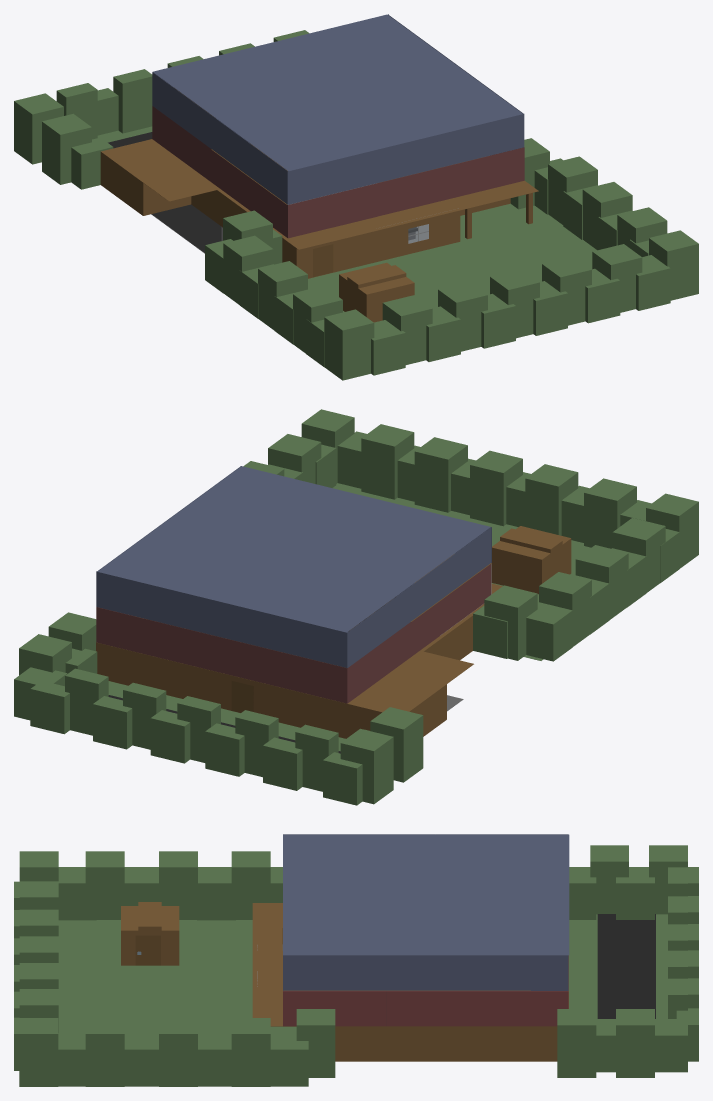
The model's file is House_Map.glb.
The picture shows the model from 3 angles, top to bottom: view 1: azimuth 30°, elevation 25°; view 2: azimuth 150°, elevation 25°; view 3: azimuth 270°, elevation 25°; orthographic projection. The views are drawn at different scales.
Visible parts, largest first — view 1: Cube_copy_copy_copy_copy_copy_copy_copy_copy_copy_copy_copy_ (×33), Cube_copy_copy_copy_copy_3, Cube_copy_copy_copy_copy_copy_copy_copy_copy_copy_copy_13, Cube_copy_copy_copy_copy_copy_5, Cube_copy_copy_copy_copy_copy_copy_copy_copy_copy_copy_2, Cube_copy_copy_copy_copy_copy_copy_copy_copy_5, Cube_copy_copy_copy_copy_copy_copy_copy_6, Cube_copy_copy_copy_copy_copy_copy_copy_copy_copy_2, Cube_copy_copy_copy_copy_copy_copy_7, Cube_copy_copy_copy_copy_copy_7, Cube_copy_copy_copy_copy_copy_copy_4, Cube_copy_copy_copy_copy_copy_copy_copy_copy_2 (+11 smaller); view 2: Cube_copy_copy_copy_copy_copy_copy_copy_copy_copy_copy_copy_ (×41), Cube_copy_copy_copy_copy_copy_copy_copy_copy_copy_copy_14, Cube_copy_copy_copy_copy_copy_copy_copy_copy_copy_copy_13, Cube_copy_copy_copy_7, Cube_copy_copy_copy_copy_copy_copy_copy_copy_8, Cube_copy_copy_copy_copy_copy_copy_copy_copy_copy_2, Cube_copy_copy_copy_copy_copy_copy_copy_copy_copy_copy_2, Cube_copy_copy_copy_copy_copy_copy_copy_2, Cube_copy_copy_copy_copy_copy_1, Cube_copy_copy_copy_copy_copy_copy_copy_copy_2, Cube_copy_copy_copy_copy_copy_7, Cube_copy_copy_copy_copy_3 (+6 smaller); view 3: Cube_copy_copy_copy_copy_copy_copy_copy_copy_copy_copy_copy_ (×33), Cube_copy_copy_copy_copy_3, Cube_copy_copy_copy_copy_copy_1, Cube_copy_copy_copy_copy_8, Cube_copy_copy_copy_copy_copy_copy_copy, Cube_copy_copy_copy_copy_copy_copy_copy_copy_8 copy copy, Cube_copy_copy_copy_copy_copy_copy_copy_copy_8 copy, Cube_copy_copy_copy_copy_copy_copy_copy_6, Cube_copy_copy_copy_copy_copy_copy_copy_copy_copy_2, Cube_copy_copy_copy_copy_copy_copy_copy_copy_copy_copy_2, Cube_copy_copy_copy_copy_copy_copy_copy_copy_5, Cube_copy_copy_copy_copy_copy_copy_4 (+10 smaller).
Part boxes in pixels (box(x1,y1,x2,y2)): Cube_copy_copy_copy_copy_copy_copy_copy_copy_copy_copy_copy_ (×33): box(14, 14, 670, 380); Cube_copy_copy_copy_copy_3: box(315, 203, 596, 307); Cube_copy_copy_copy_copy_copy_copy_copy_copy_copy_copy_13: box(152, 106, 287, 237); Cube_copy_copy_copy_copy_copy_5: box(333, 223, 408, 272); Cube_copy_copy_copy_copy_copy_copy_copy_copy_copy_copy_2: box(649, 230, 698, 300); Cube_copy_copy_copy_copy_copy_copy_copy_copy_5: box(582, 182, 632, 250); Cube_copy_copy_copy_copy_copy_copy_copy_6: box(548, 156, 597, 224); Cube_copy_copy_copy_copy_copy_copy_copy_copy_copy_2: box(617, 207, 667, 247); Cube_copy_copy_copy_copy_copy_copy_7: box(100, 152, 142, 215); Cube_copy_copy_copy_copy_copy_7: box(191, 171, 296, 265); Cube_copy_copy_copy_copy_copy_copy_4: box(510, 138, 549, 209); Cube_copy_copy_copy_copy_copy_copy_copy_copy_2: box(339, 262, 414, 299); Cube_copy_copy_copy_copy_copy_copy_copy_copy_copy_copy_copy_ (×41): box(14, 424, 698, 805); Cube_copy_copy_copy_copy_copy_copy_copy_copy_copy_copy_14: box(96, 607, 347, 703); Cube_copy_copy_copy_copy_copy_copy_copy_copy_copy_copy_13: box(347, 564, 490, 703); Cube_copy_copy_copy_7: box(96, 643, 231, 710); Cube_copy_copy_copy_copy_copy_copy_copy_copy_8: box(253, 681, 381, 738); Cube_copy_copy_copy_copy_copy_copy_copy_copy_copy_2: box(268, 434, 321, 483); Cube_copy_copy_copy_copy_copy_copy_copy_copy_copy_copy_2: box(301, 409, 354, 483); Cube_copy_copy_copy_copy_copy_copy_copy_2: box(491, 553, 541, 594); Cube_copy_copy_copy_copy_copy_1: box(333, 483, 590, 575); Cube_copy_copy_copy_copy_copy_copy_copy_copy_2: box(492, 526, 571, 565); Cube_copy_copy_copy_copy_copy_7: box(397, 616, 472, 670); Cube_copy_copy_copy_copy_3: box(333, 483, 588, 585); Cube_copy_copy_copy_copy_copy_copy_copy_copy_copy_copy_copy_ (×33): box(19, 834, 698, 1077); Cube_copy_copy_copy_copy_3: box(58, 947, 296, 1033); Cube_copy_copy_copy_copy_copy_1: box(58, 920, 163, 1033); Cube_copy_copy_copy_copy_8: box(335, 1026, 557, 1061); Cube_copy_copy_copy_copy_copy_copy_copy: box(179, 920, 296, 1033); Cube_copy_copy_copy_copy_copy_copy_copy_copy_8 copy copy: box(597, 914, 655, 1018); Cube_copy_copy_copy_copy_copy_copy_copy_copy_8 copy: box(569, 914, 667, 1018); Cube_copy_copy_copy_copy_copy_copy_copy_6: box(231, 1018, 270, 1086); Cube_copy_copy_copy_copy_copy_copy_copy_copy_copy_2: box(85, 1018, 124, 1086); Cube_copy_copy_copy_copy_copy_copy_copy_copy_copy_copy_2: box(19, 1018, 58, 1086); Cube_copy_copy_copy_copy_copy_copy_copy_copy_5: box(159, 1018, 197, 1086); Cube_copy_copy_copy_copy_copy_copy_4: box(296, 1009, 335, 1077).
Size of what is drawn, in the model's own units: 115 by 42.05 by 176.
